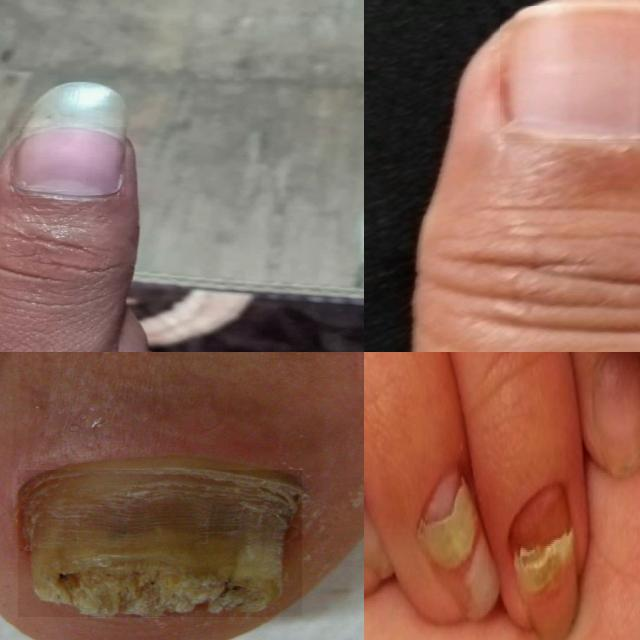diabetes: (18, 471, 302, 617), (413, 476, 501, 614), (511, 486, 580, 635)
sehat: (500, 6, 640, 141), (10, 128, 126, 197), (592, 352, 640, 443)
